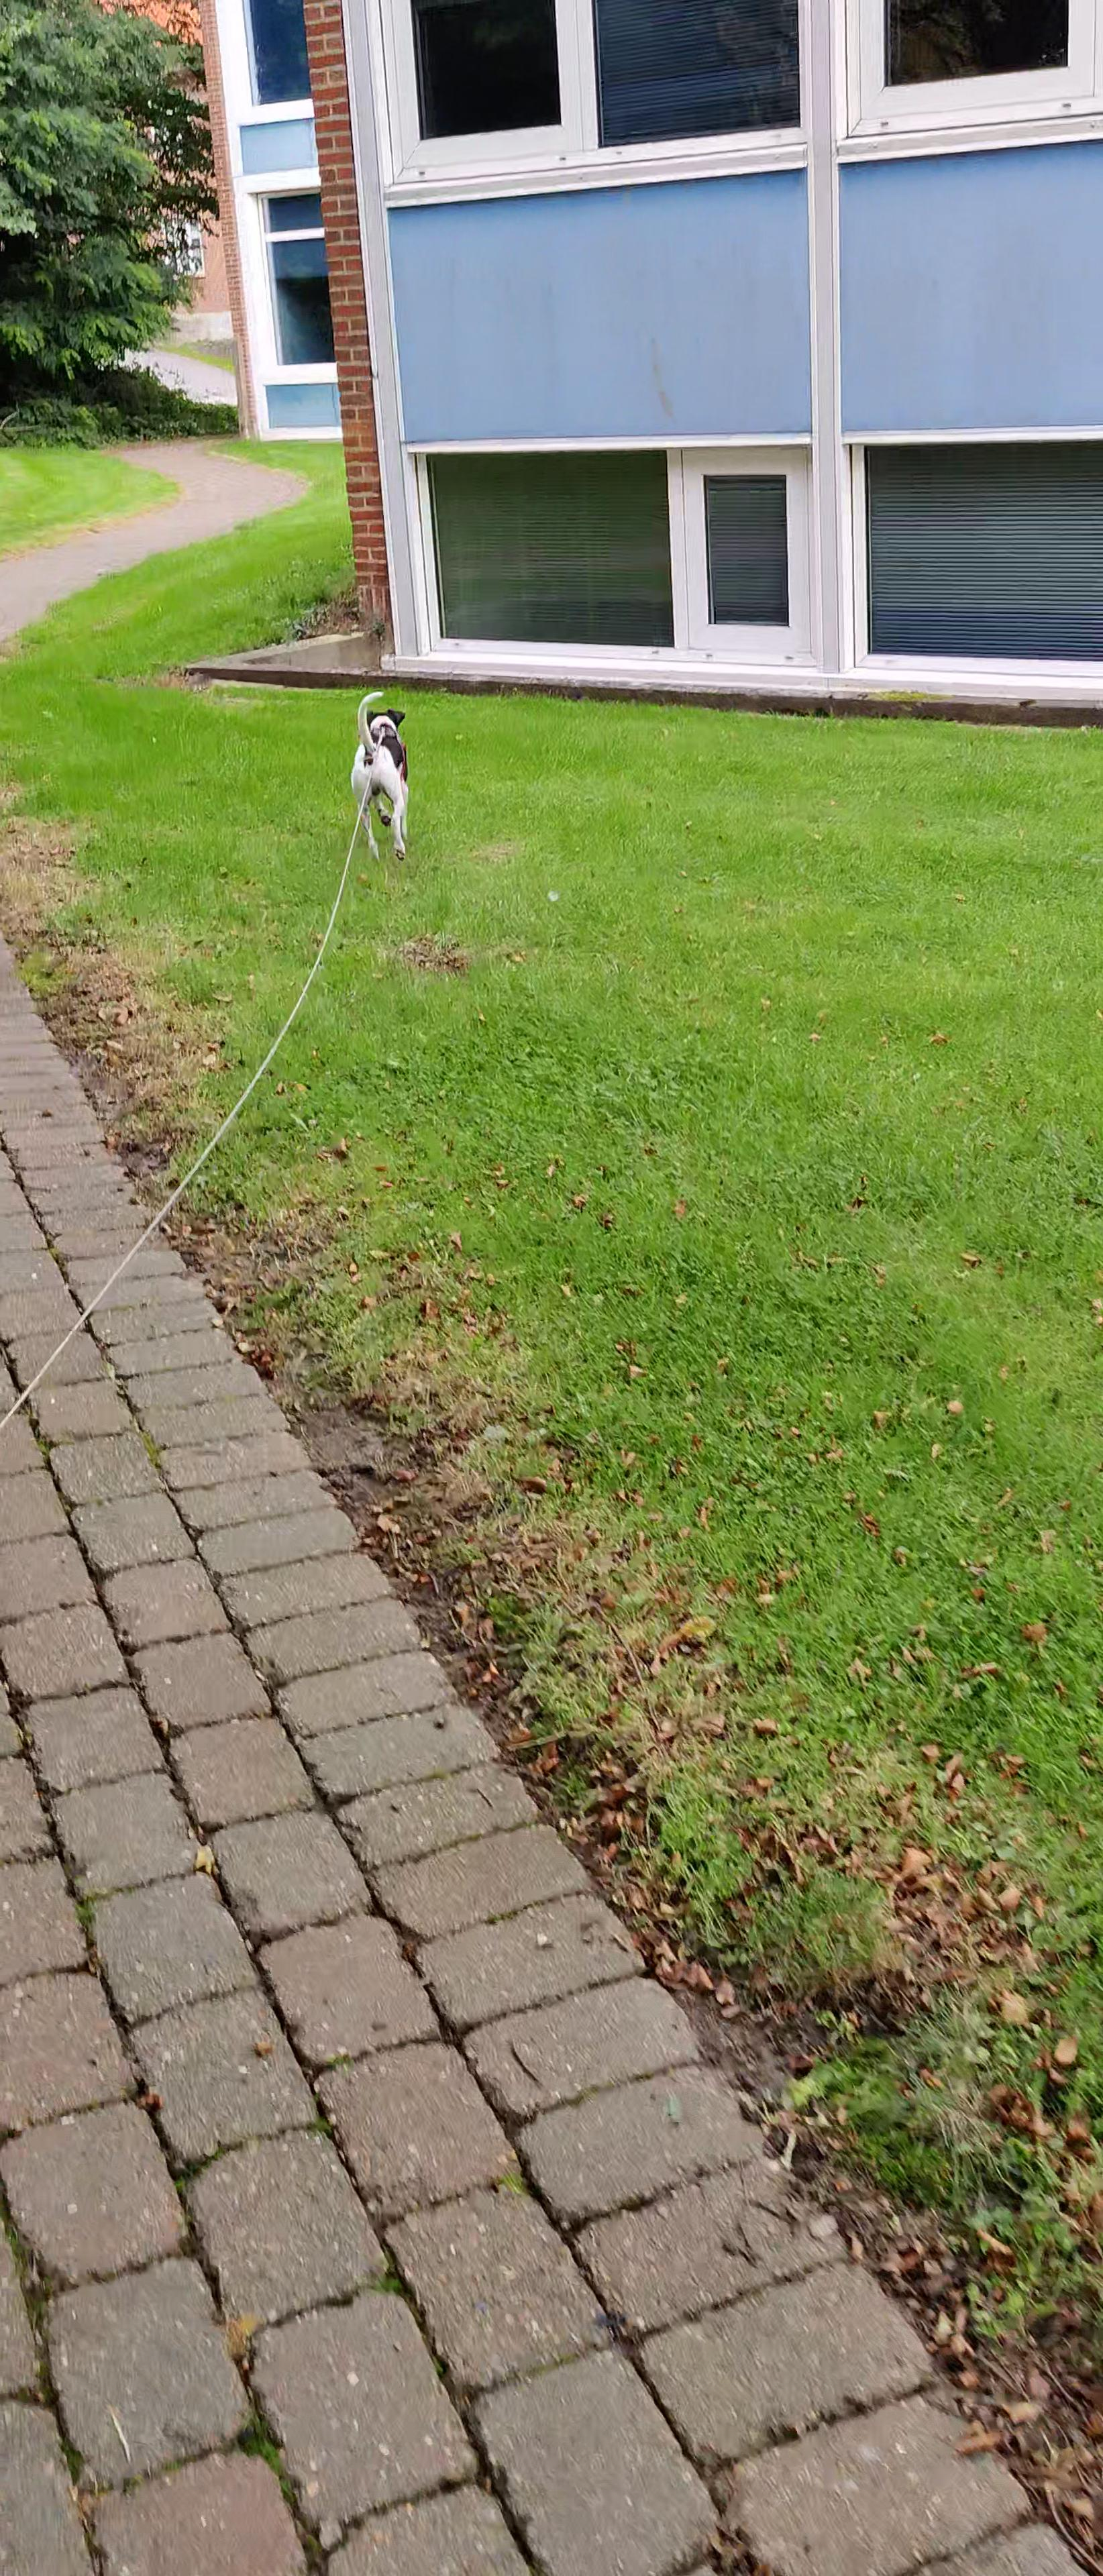Dog: (332, 688, 431, 869)
